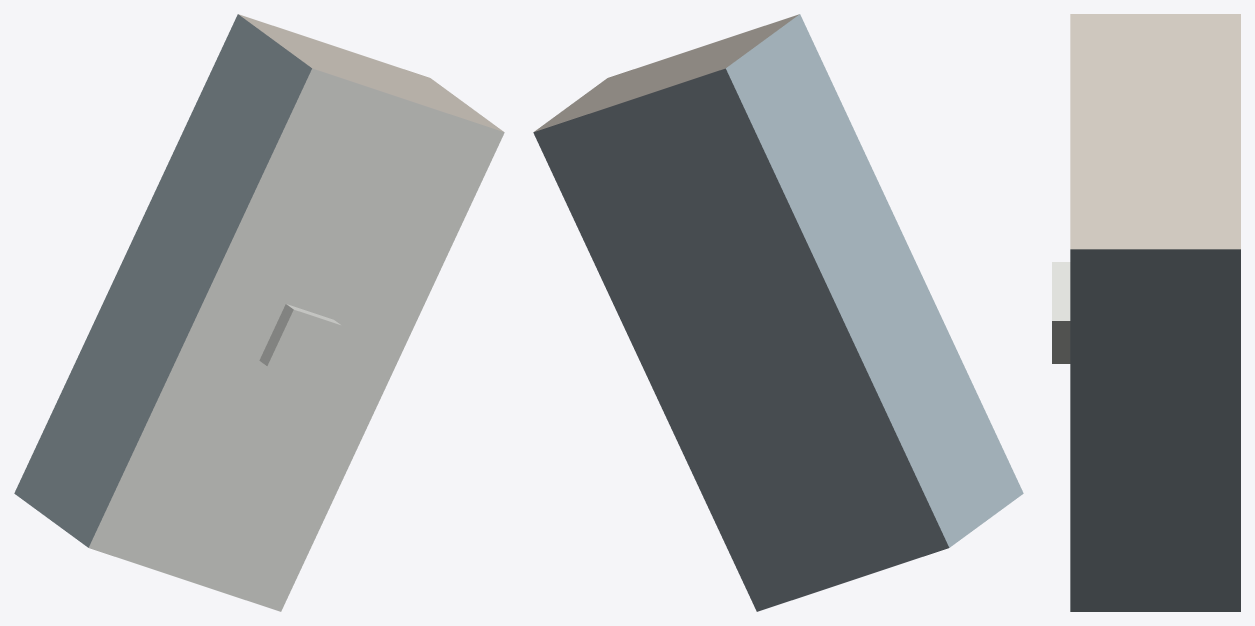
The model's file is doitt-262867__lod_1.glb.
3 renders of one model, left to right at view 1: azimuth 30°, elevation 25°; view 2: azimuth 150°, elevation 25°; view 3: azimuth 270°, elevation 25°, orthographic. The views are drawn at different scales.
Bounding box in the file's own units: 26.41 × 32.5 × 9.04.
